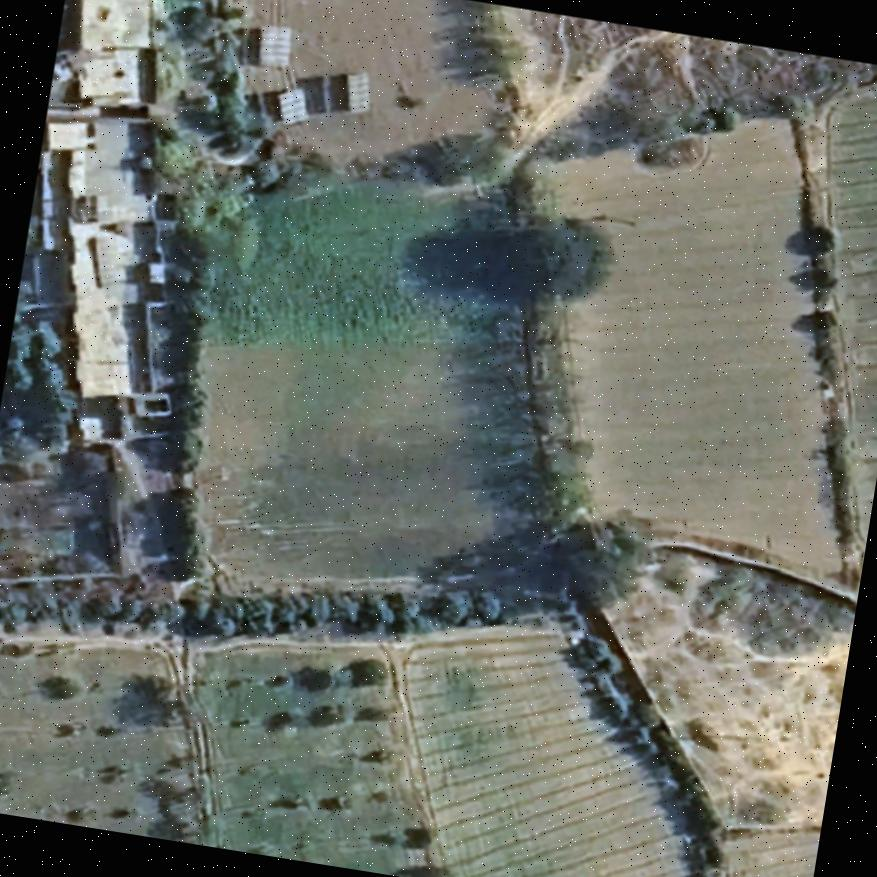Solarpanel: (258, 24, 292, 67), (278, 87, 308, 126), (346, 70, 370, 111)
